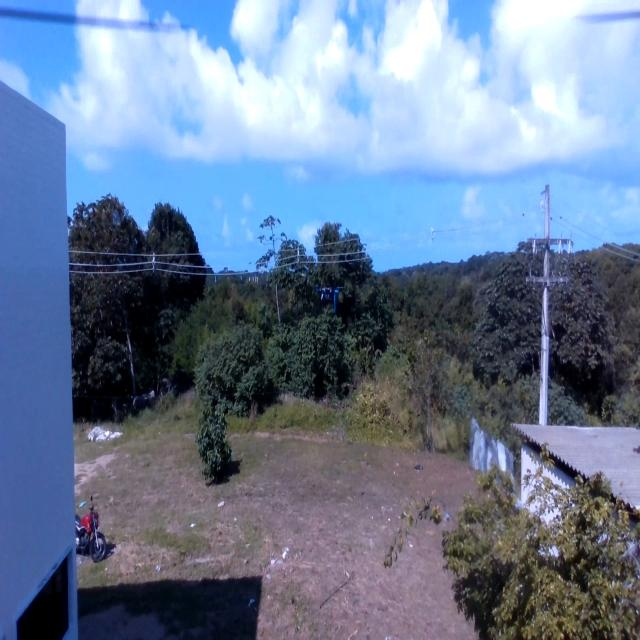-uav-: (314, 286, 343, 311)
